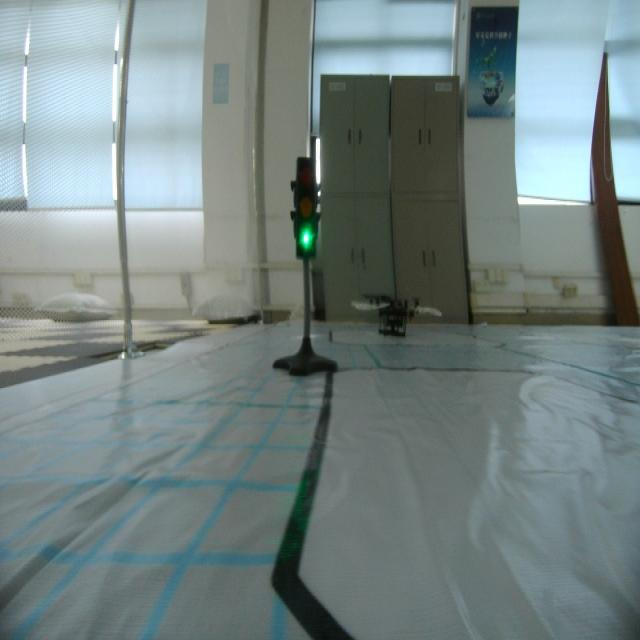green: (286, 153, 330, 272)
